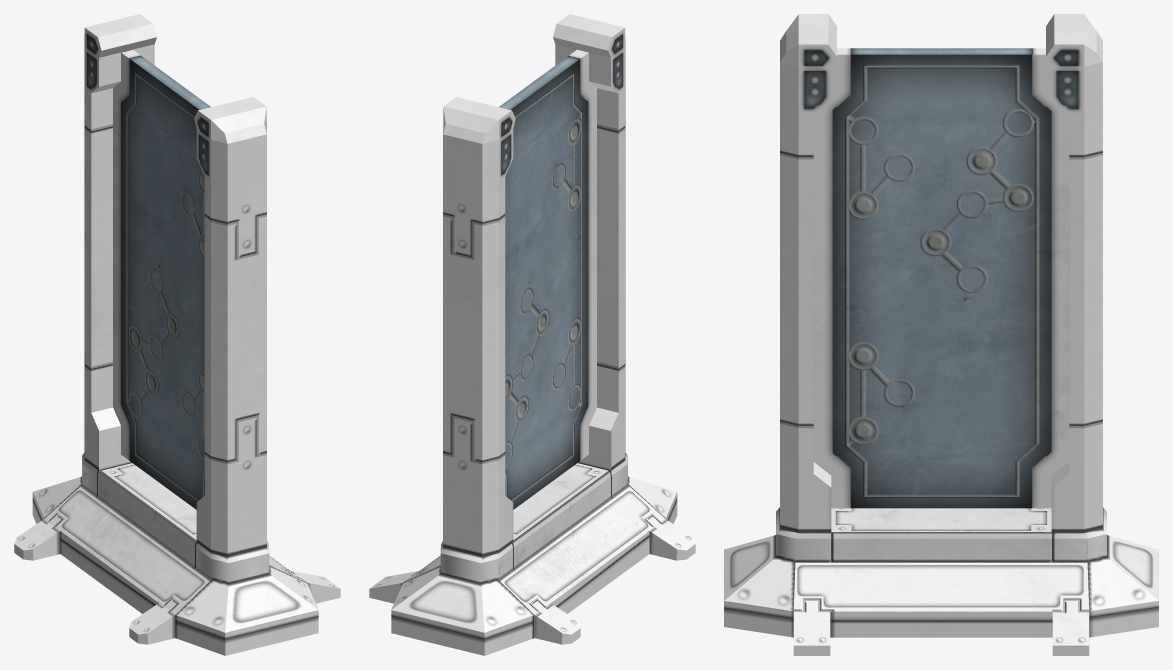
Rendered from Obj_HoloSign_2.FBX.
3 renders of one model, left to right at view 1: azimuth 30°, elevation 25°; view 2: azimuth 150°, elevation 25°; view 3: azimuth 270°, elevation 25°, orthographic. The views are drawn at different scales.
Parts seen in each view (by area): view 1: HoloSign_2; view 2: HoloSign_2; view 3: HoloSign_2.
Boxes of the visible parts, x1,y1,x2,y2 form: HoloSign_2: (14,14,340,655); HoloSign_2: (369,14,695,655); HoloSign_2: (724,14,1158,655).
Bounding box in the file's own units: 1.06 × 2.58 × 1.78.
